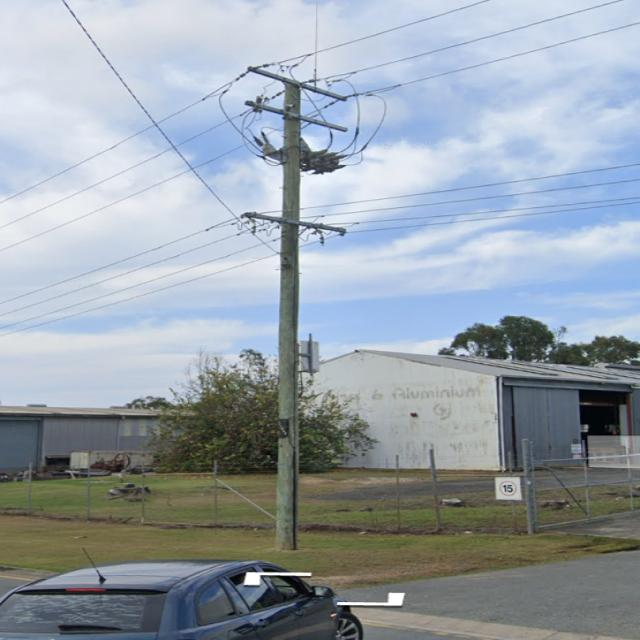HV-switch: (301, 148, 350, 176)
HV-transmission: (244, 64, 349, 130)
LV link: (205, 217, 256, 231), (237, 222, 287, 234), (299, 229, 333, 241)
crossarm: (247, 65, 349, 101), (243, 99, 349, 132), (244, 211, 348, 233)
timber-pole: (274, 86, 302, 552)
